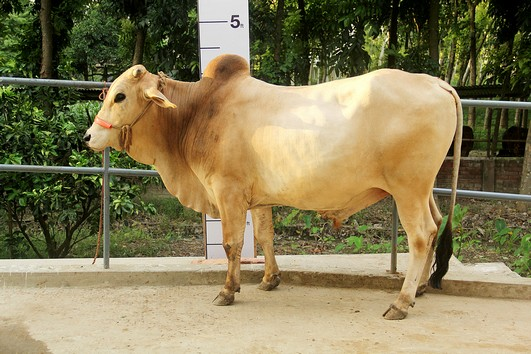cow: (77, 49, 469, 324)
